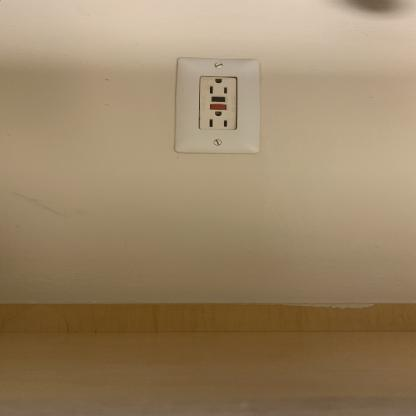OUTLET: (173, 56, 262, 155)
